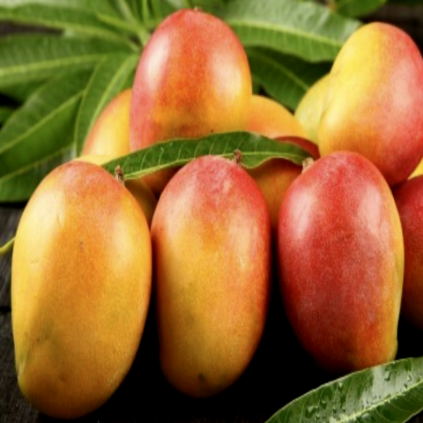mango: (6, 140, 160, 413), (268, 126, 415, 401), (145, 160, 285, 402), (119, 0, 267, 192)
